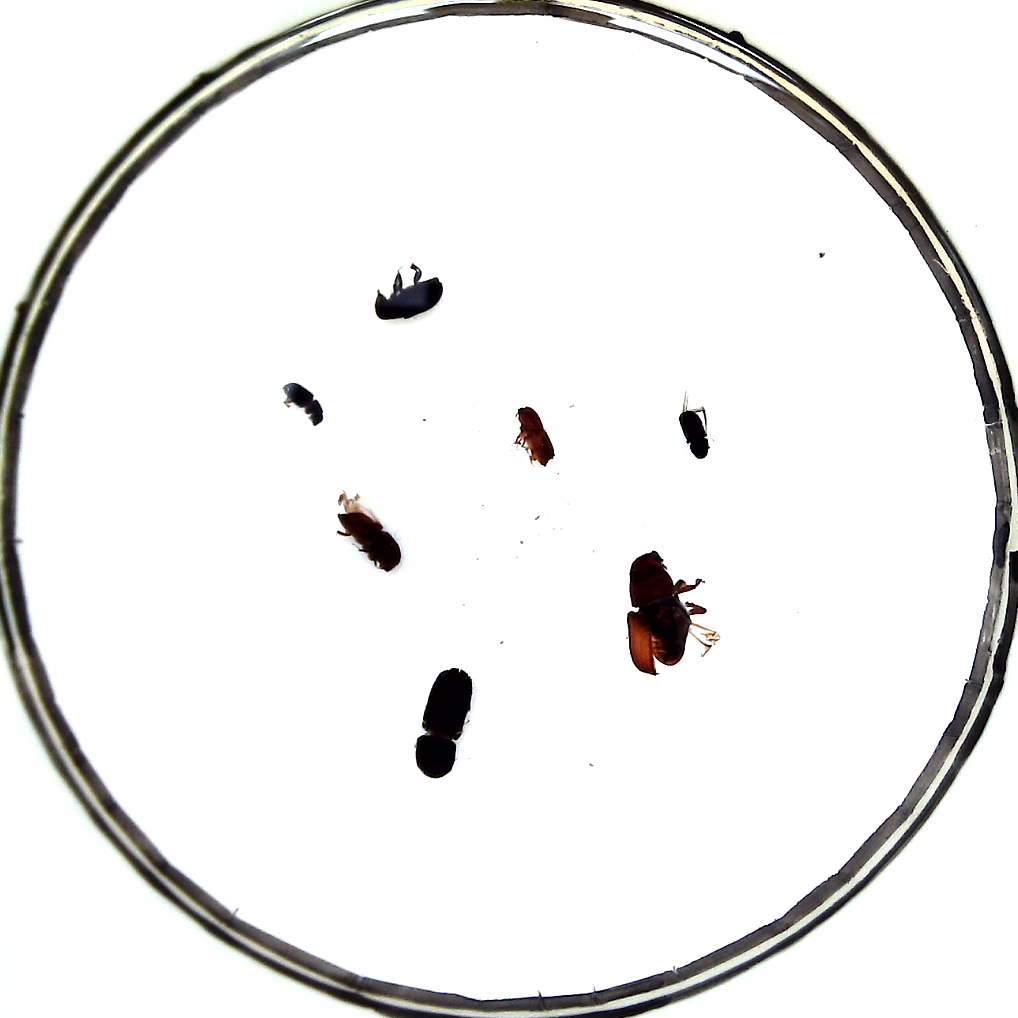Boerner: (413, 669, 476, 779)
Leconte: (628, 548, 711, 676)
Linnaeus: (335, 508, 400, 575)
acuminatus: (513, 403, 553, 463)
armandi: (371, 266, 444, 322)
coleoptera: (277, 381, 323, 428), (677, 406, 714, 463)
